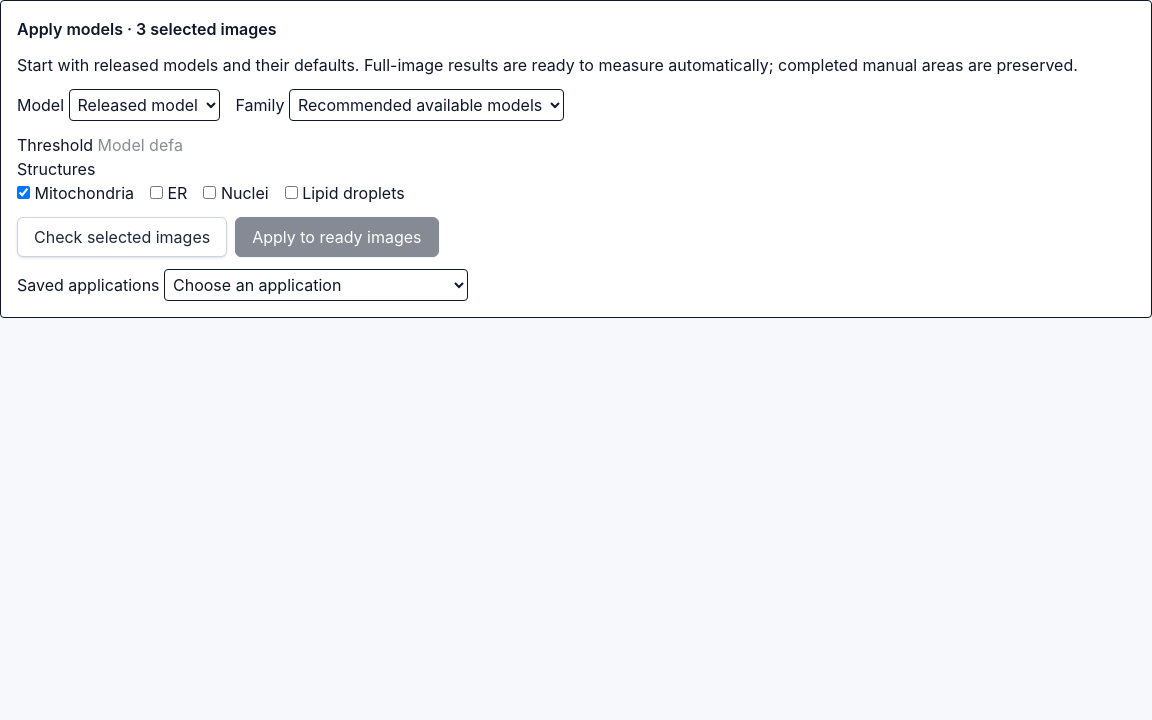
Test case: cancels queued and retrying jobs by removal, continues after failures, and cancels running jobs
Select "10/27/2026, 12:00:00 AM · 3 images" in the dropdown labelled "Saved applications" at (316, 285), box [164,269,468,301]
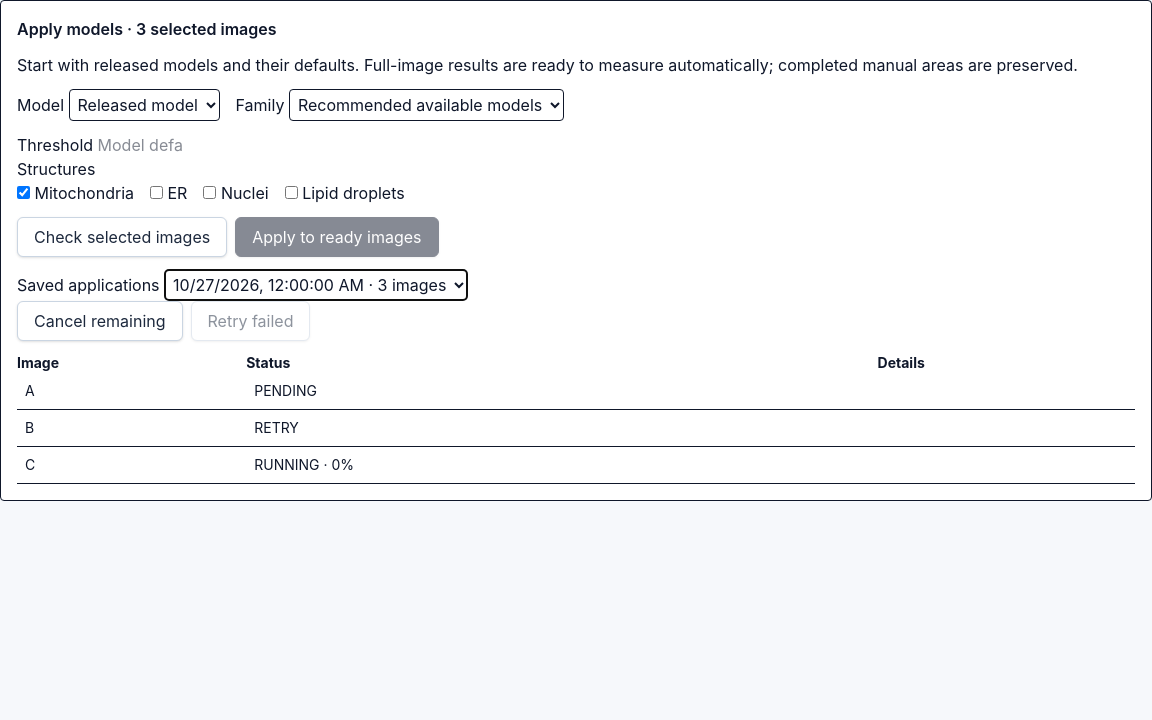
Click the button "Cancel remaining" at (100, 321), box [17,301,182,341]
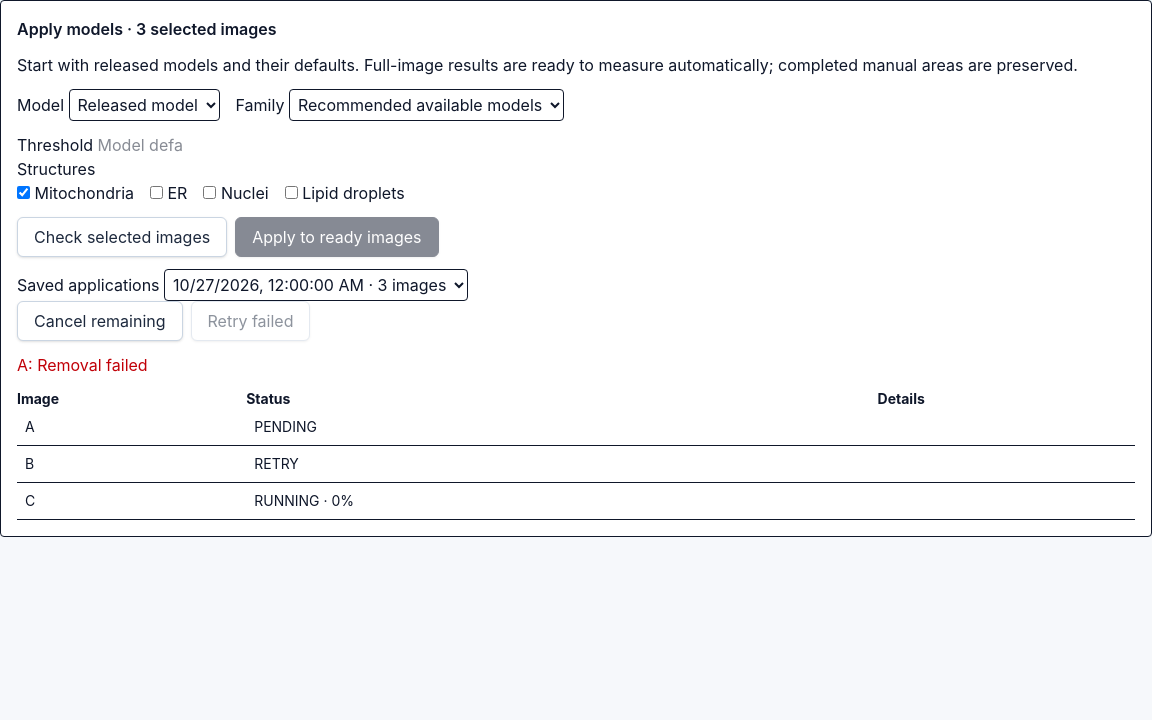
expect the message shows "Removal failed": met, box [17,355,148,375]
